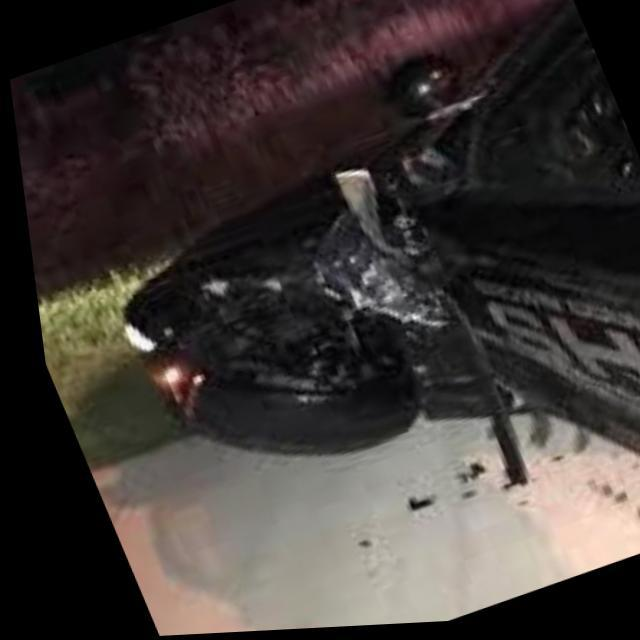crash: (113, 160, 501, 437)
